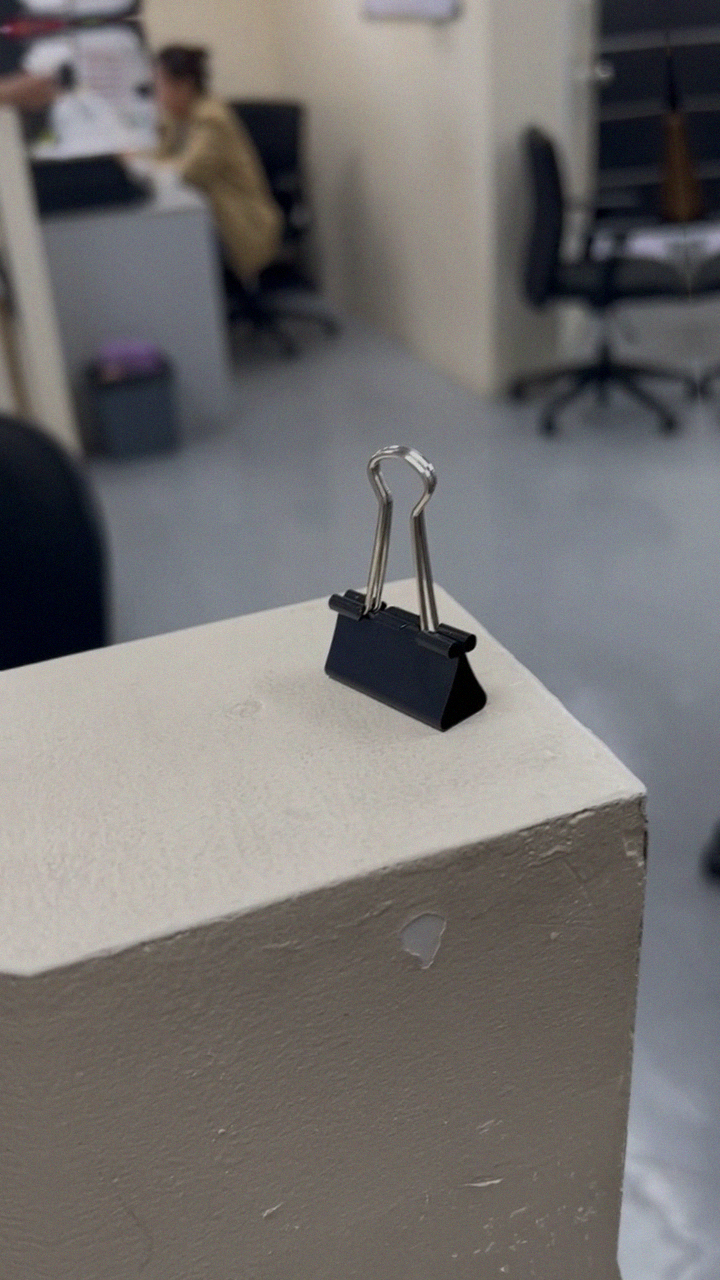kep_giay: (300, 435, 494, 746)
